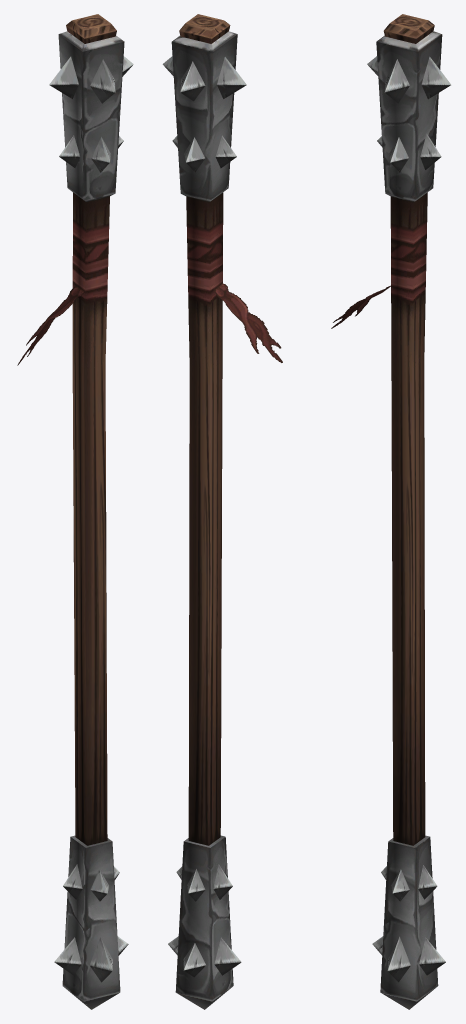
The model's file is staff02_bd8df938.glb.
3 renders of one model, left to right at view 1: azimuth 30°, elevation 25°; view 2: azimuth 150°, elevation 25°; view 3: azimuth 330°, elevation 25°, orthographic.
Bounding box in the file's own units: 0.4115 × 3.17 × 0.2847.
Materials: 1 (1 with a texture image).
